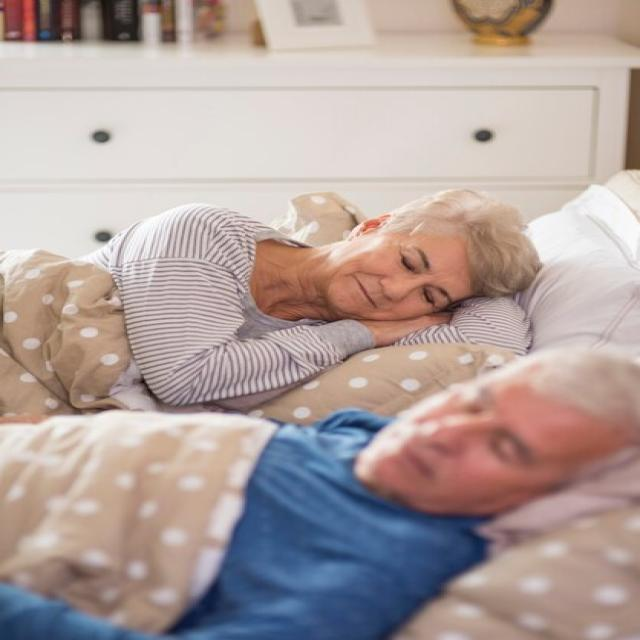idoso deitado: (9, 336, 620, 640), (0, 185, 544, 405)
